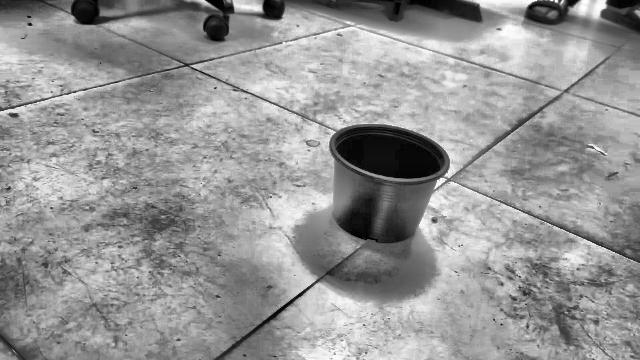pot: (329, 125, 449, 243)
